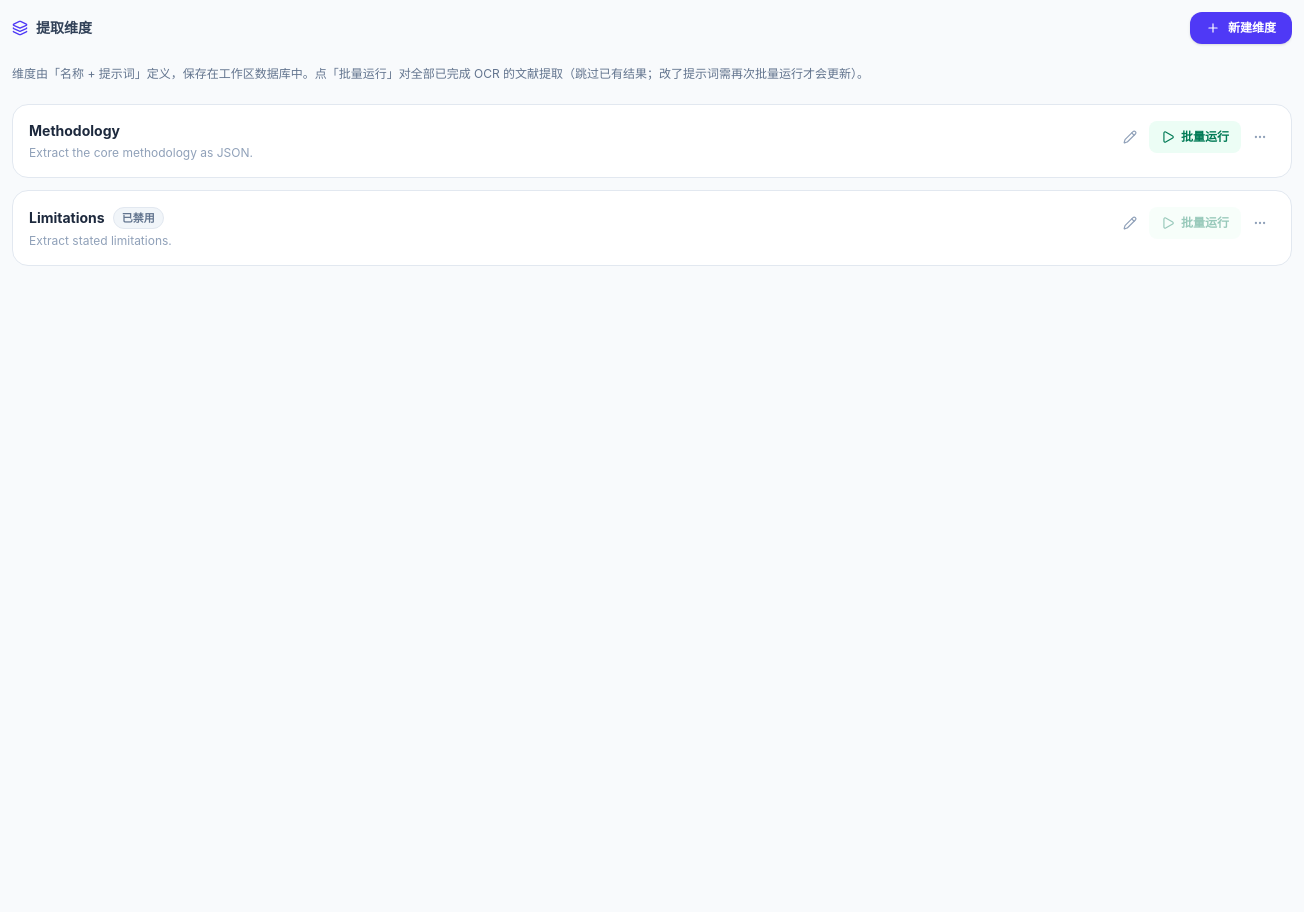
Test: DimensionManager Component › saves a new dimension, refetches the list, and shows a success message
Expected: the text "Methodology" is shown, [29,120,120,140]
Click the button "新建维度": [1241, 28] box [1190,12,1292,44]
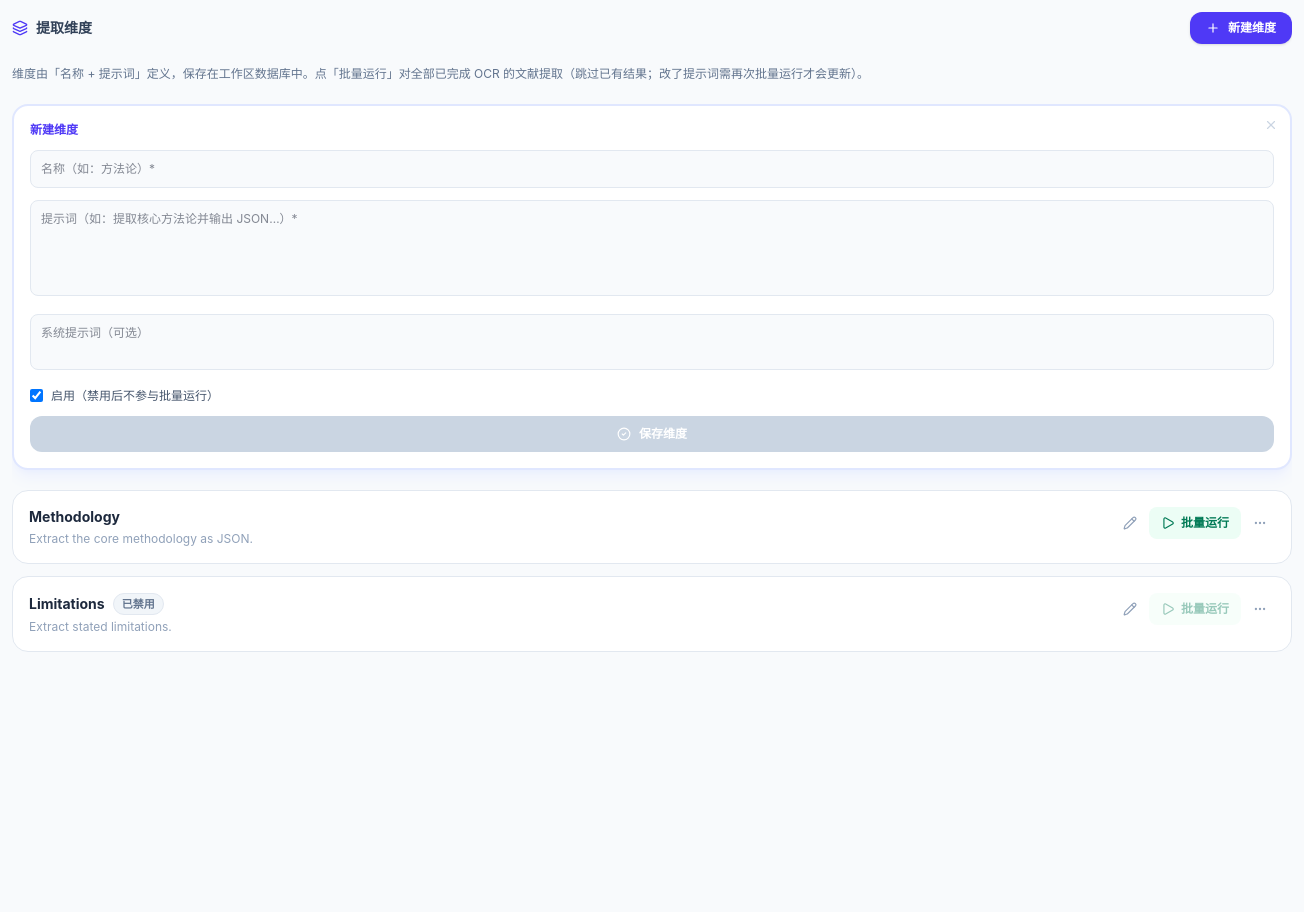
In the field named "维度名称": [652, 168] box [30,150,1274,188], type "Datasets"
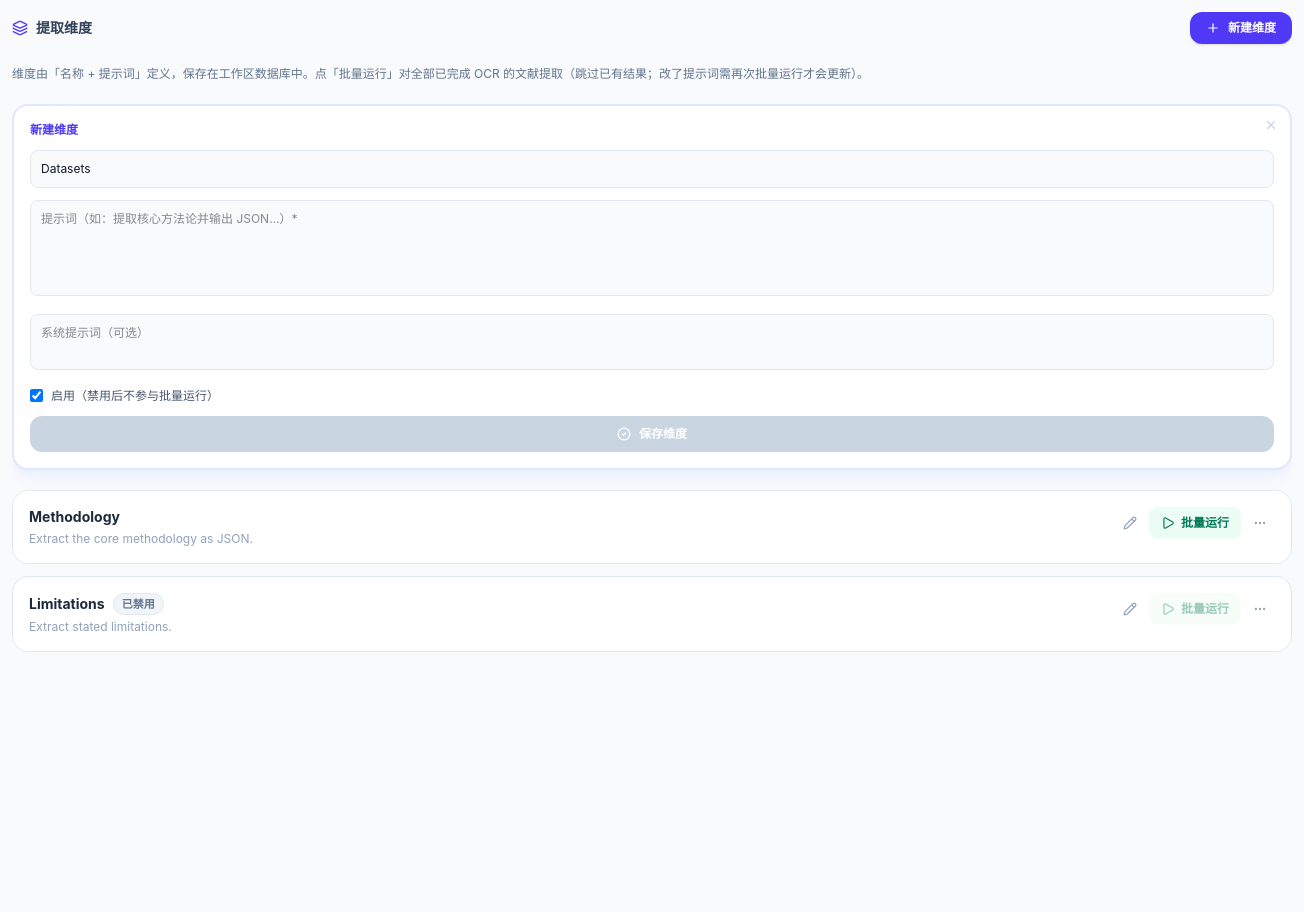
In the text box named "提取提示词": [652, 248] box [30,200,1274,296], type "List datasets used."
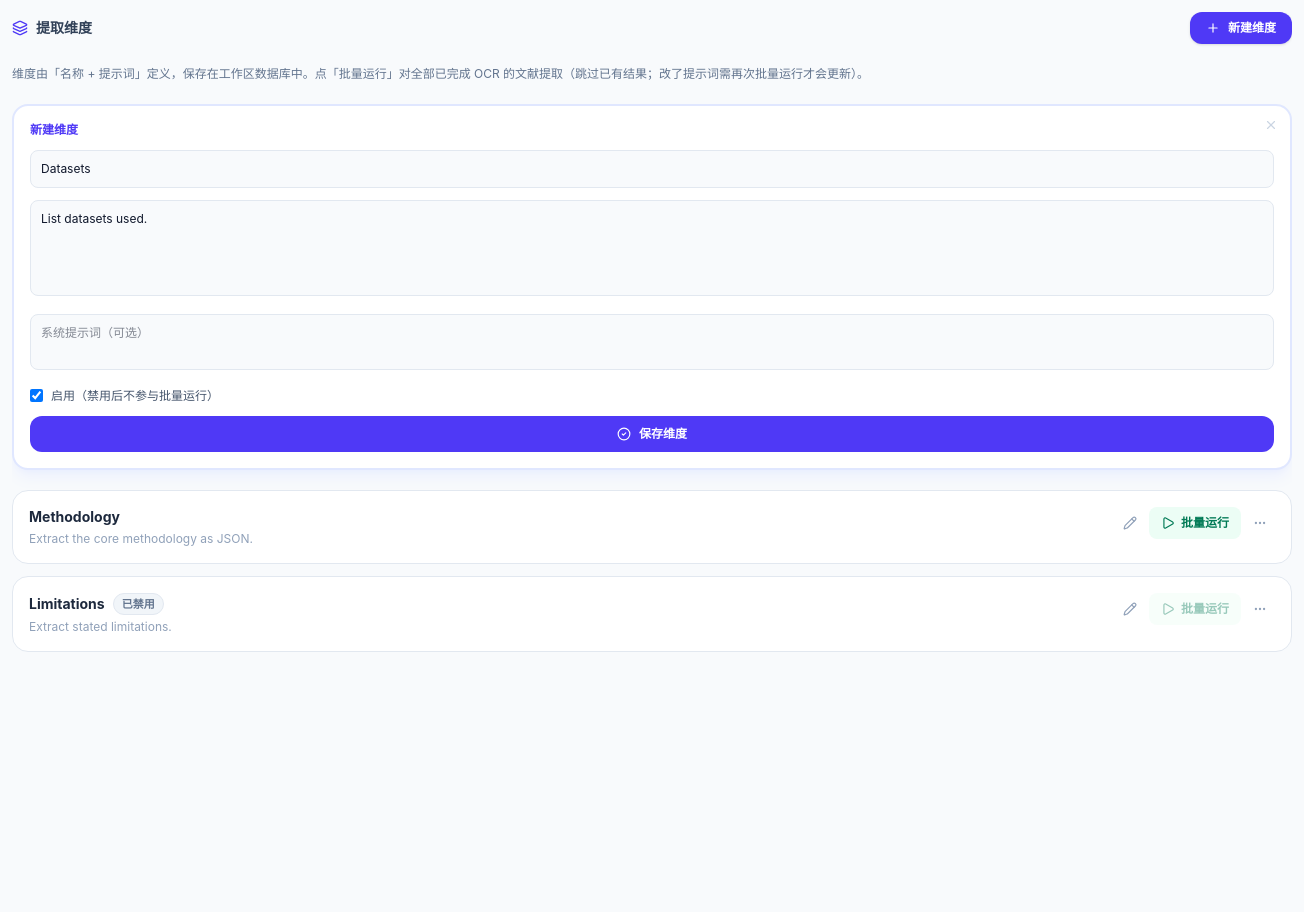
In the text box labelled "系统提示词": [652, 342] box [30,314,1274,370], type "Be terse."
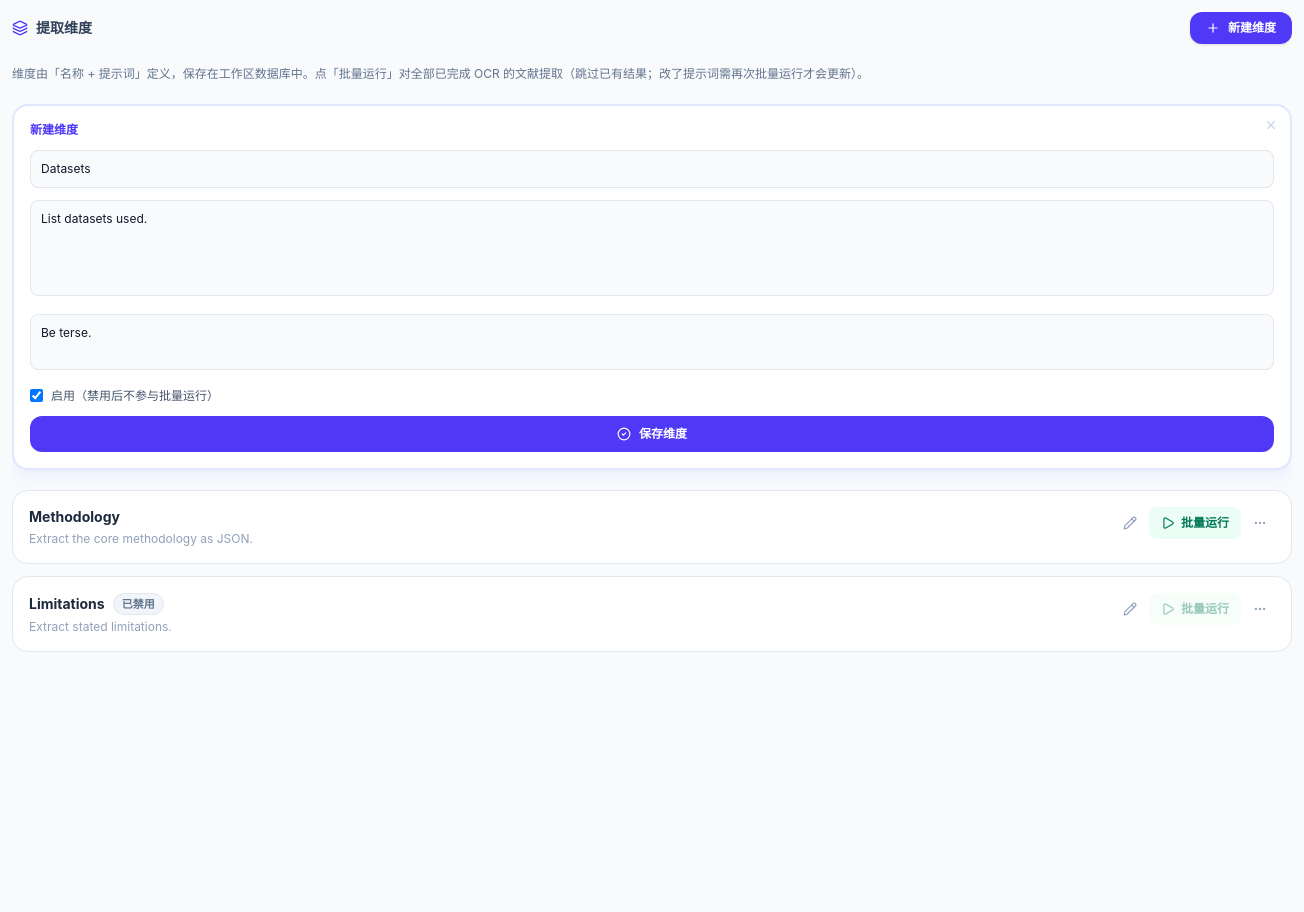
Click the button "保存维度": [652, 434] box [30,416,1274,452]
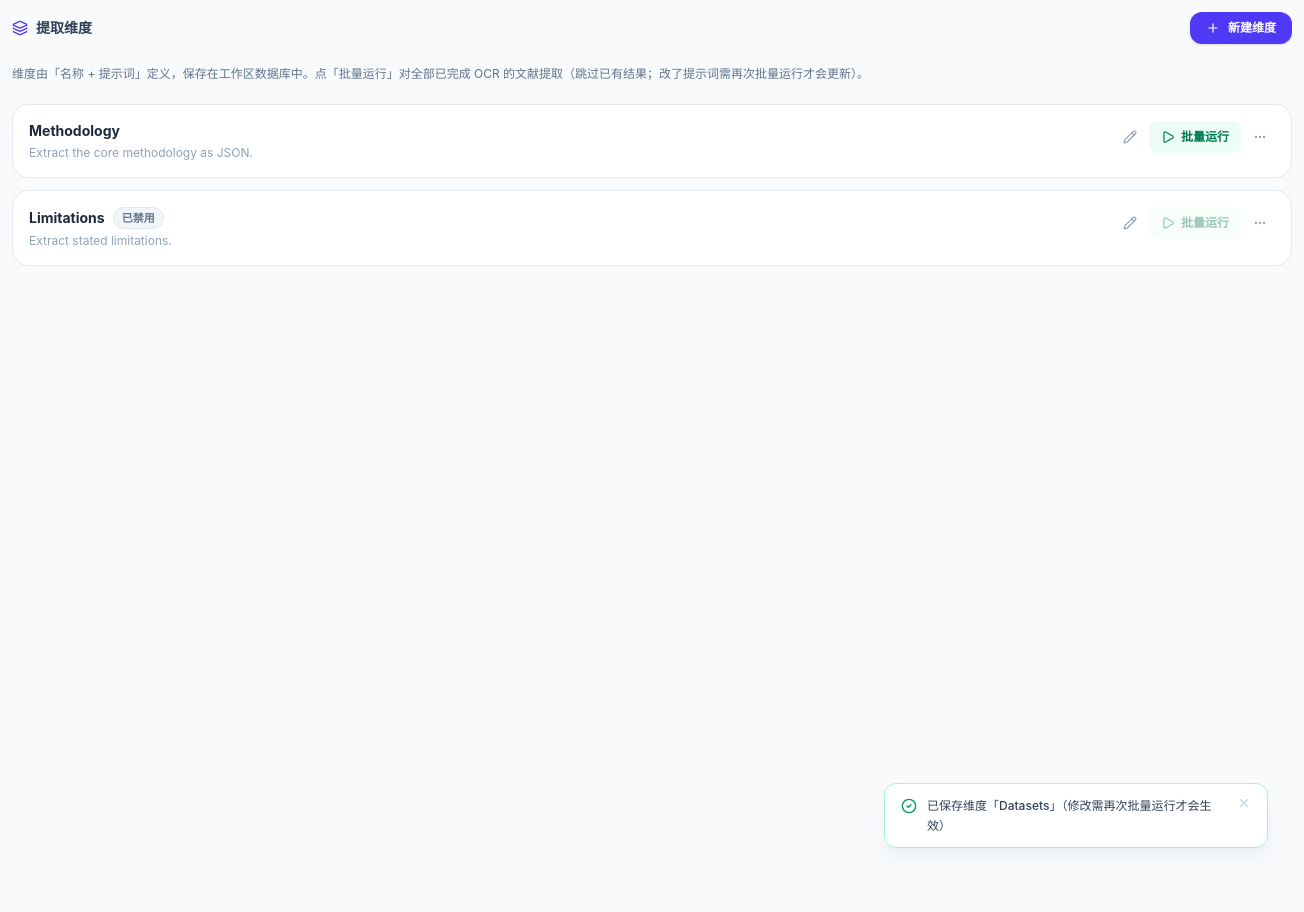
Now the text "已保存维度「Datasets」（修改需再次批量运行才会生效）" is shown, box [927,796,1227,835]
Now the field labelled "维度名称" is gone
